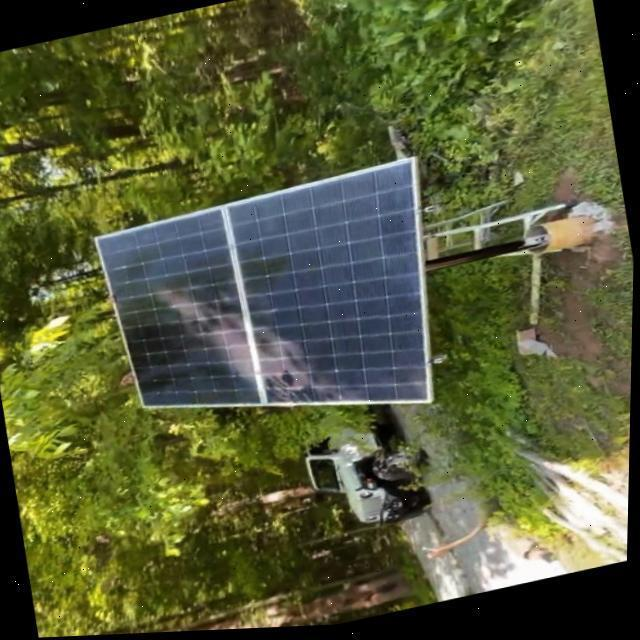Normal Solar Panel: (90, 159, 459, 470)
